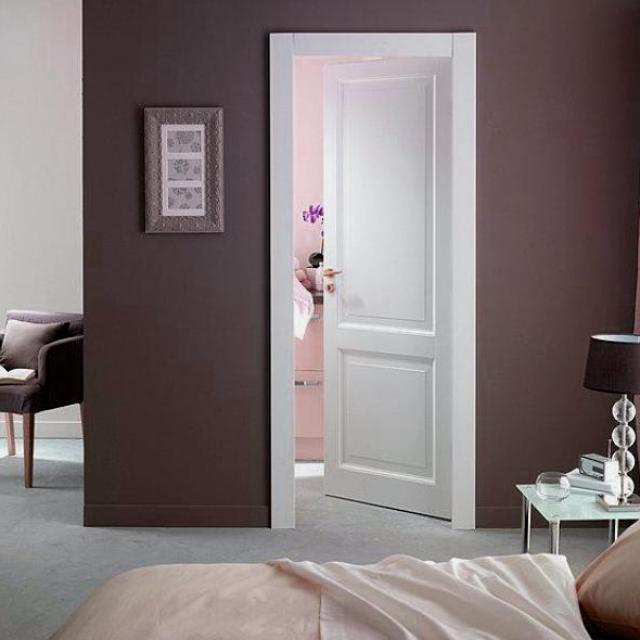door: (320, 56, 453, 520)
